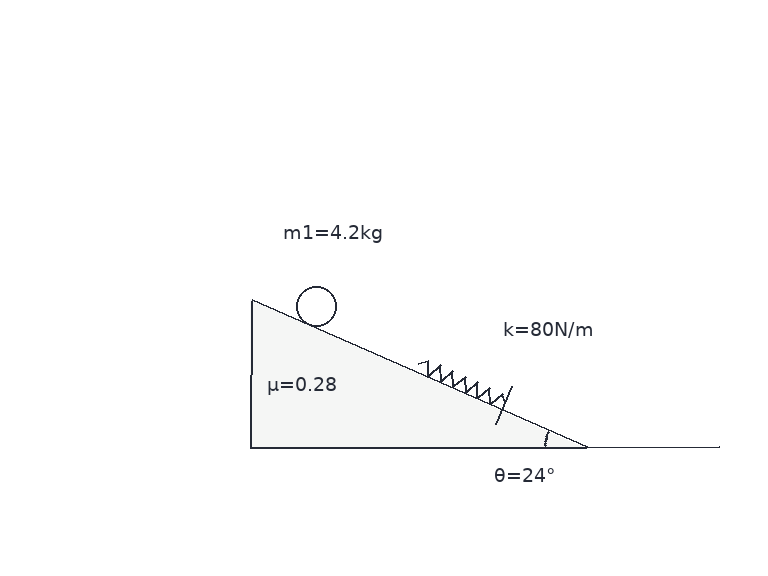ball: (294, 284, 338, 328)
ramp: (249, 297, 587, 450)
spring: (416, 358, 507, 405)
